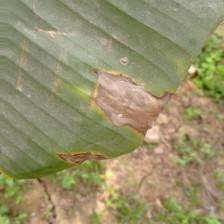cordana: (0, 0, 224, 180)
